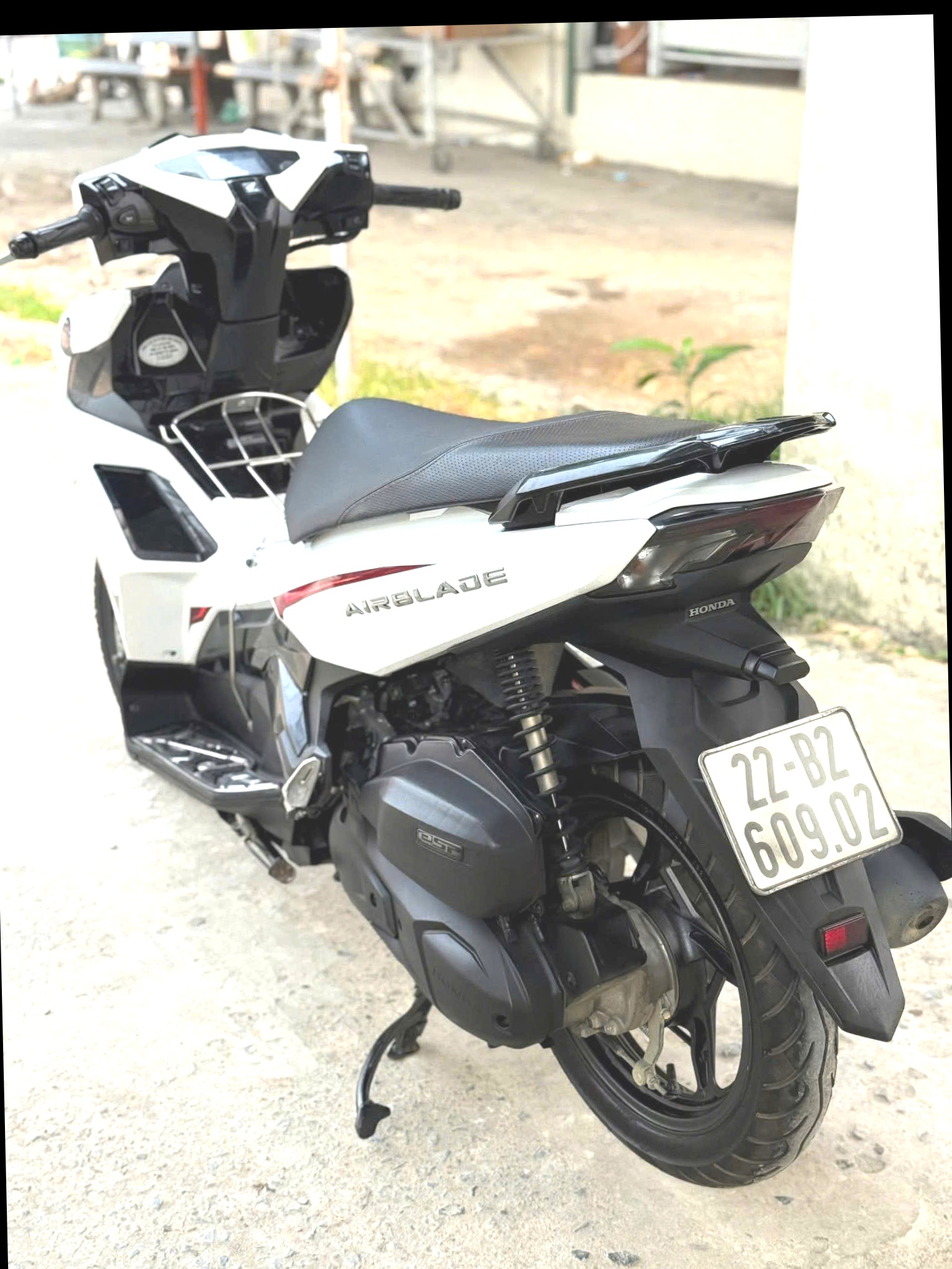Bien-so: (677, 668, 892, 876)
